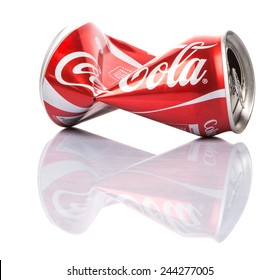can: (37, 19, 257, 142)
